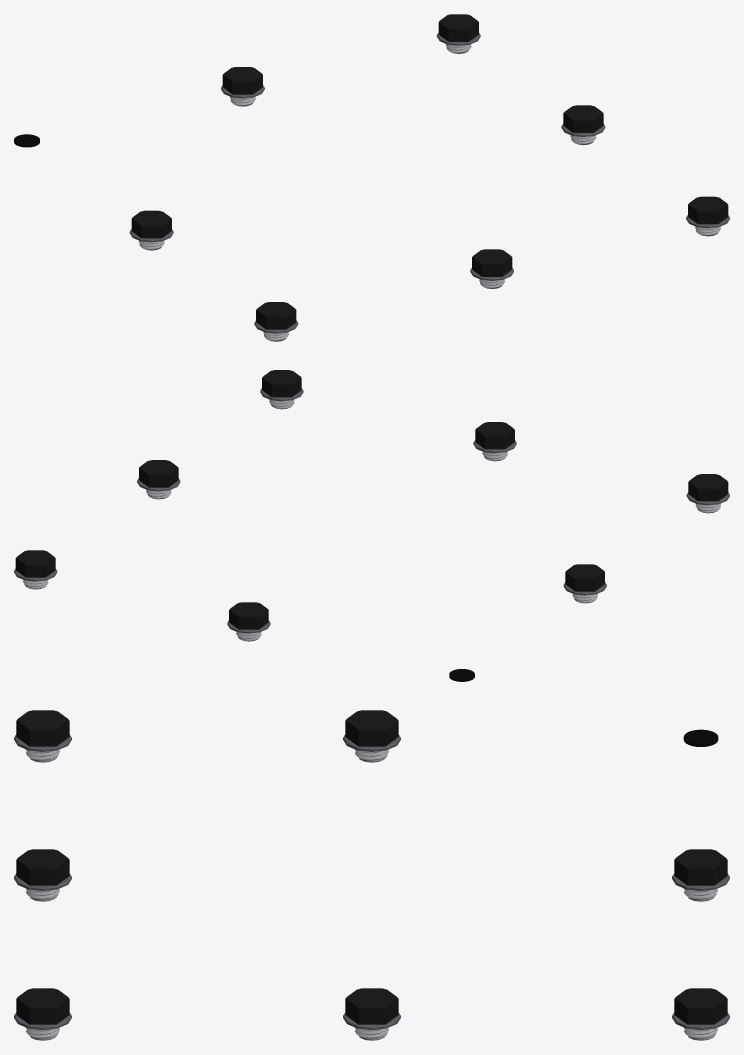
The model's file is cover_bolts_missing.glb.
The picture shows the model from 3 angles, top to bottom: view 1: azimuth 30°, elevation 25°; view 2: azimuth 150°, elevation 25°; view 3: azimuth 270°, elevation 25°; orthographic projection. The views are drawn at different scales.
Parts seen in each view (by area): view 1: cover_bolts_missing; view 2: cover_bolts_missing; view 3: cover_bolts_missing.
Boxes of the visible parts, x1,y1,x2,y2 form: cover_bolts_missing: [14, 14, 729, 341]; cover_bolts_missing: [14, 370, 729, 681]; cover_bolts_missing: [14, 710, 729, 1040].
Size of the model in its own units: 0.457 by 0.026 by 0.457.
4 materials, 2 textured.
